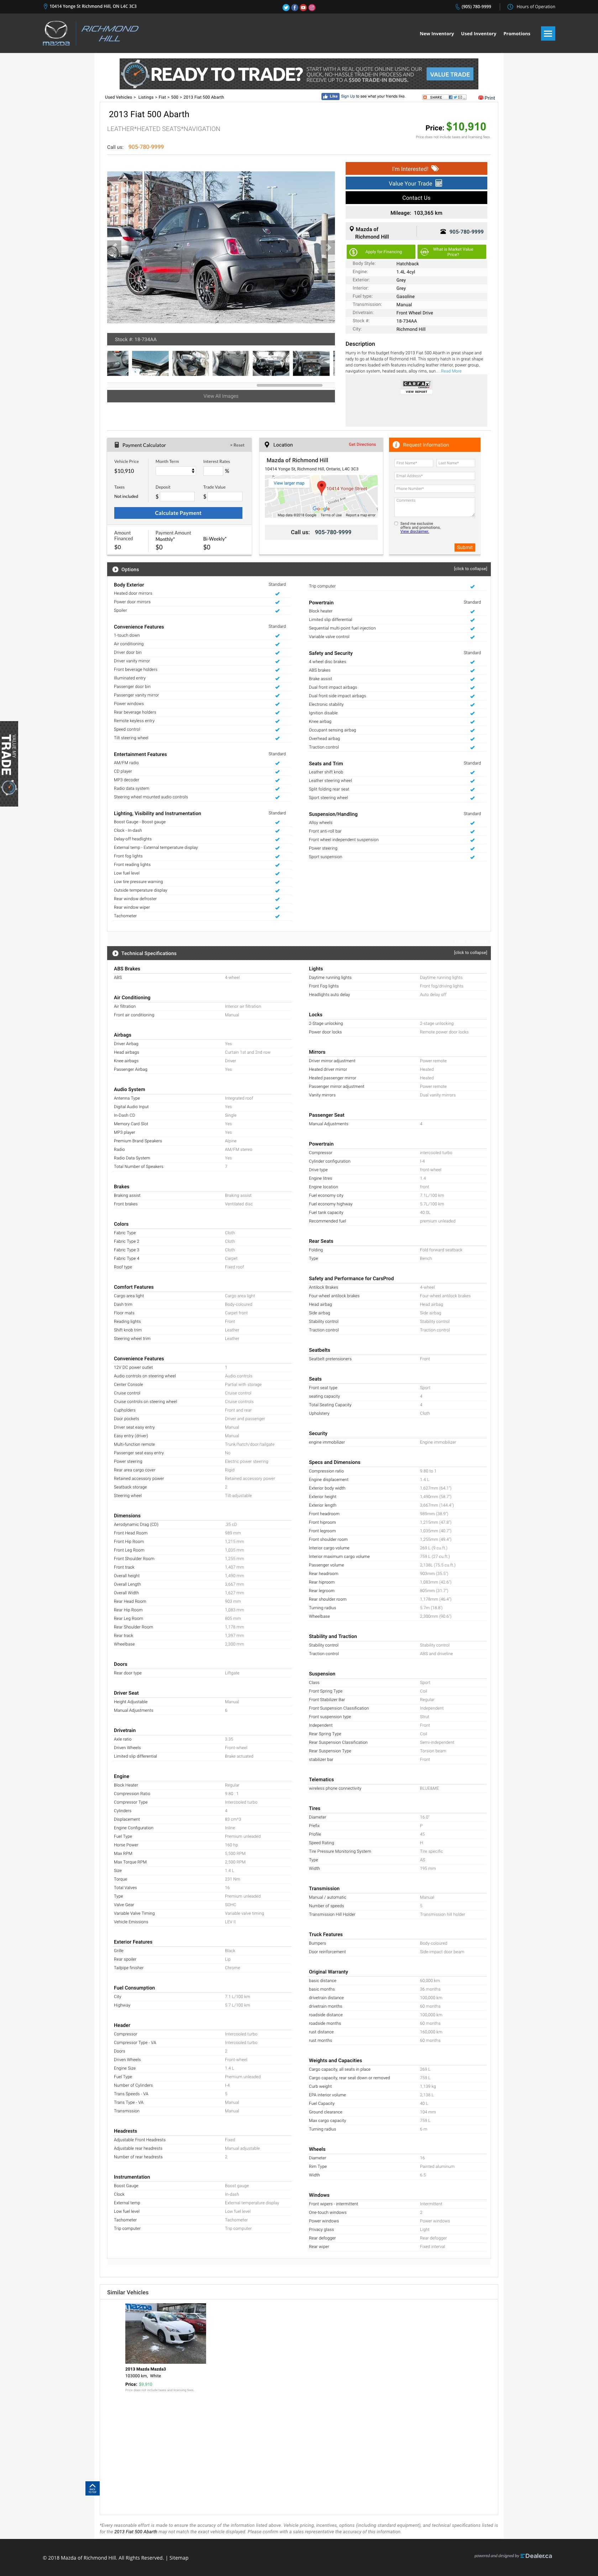car: (320, 240, 337, 256)
